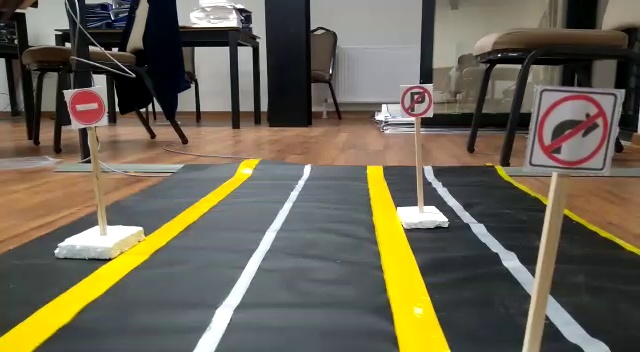girisi_olmayan_yol: (67, 87, 108, 127)
park_yapilmaz: (400, 81, 433, 118)
saga_donulmez: (536, 87, 612, 169)
